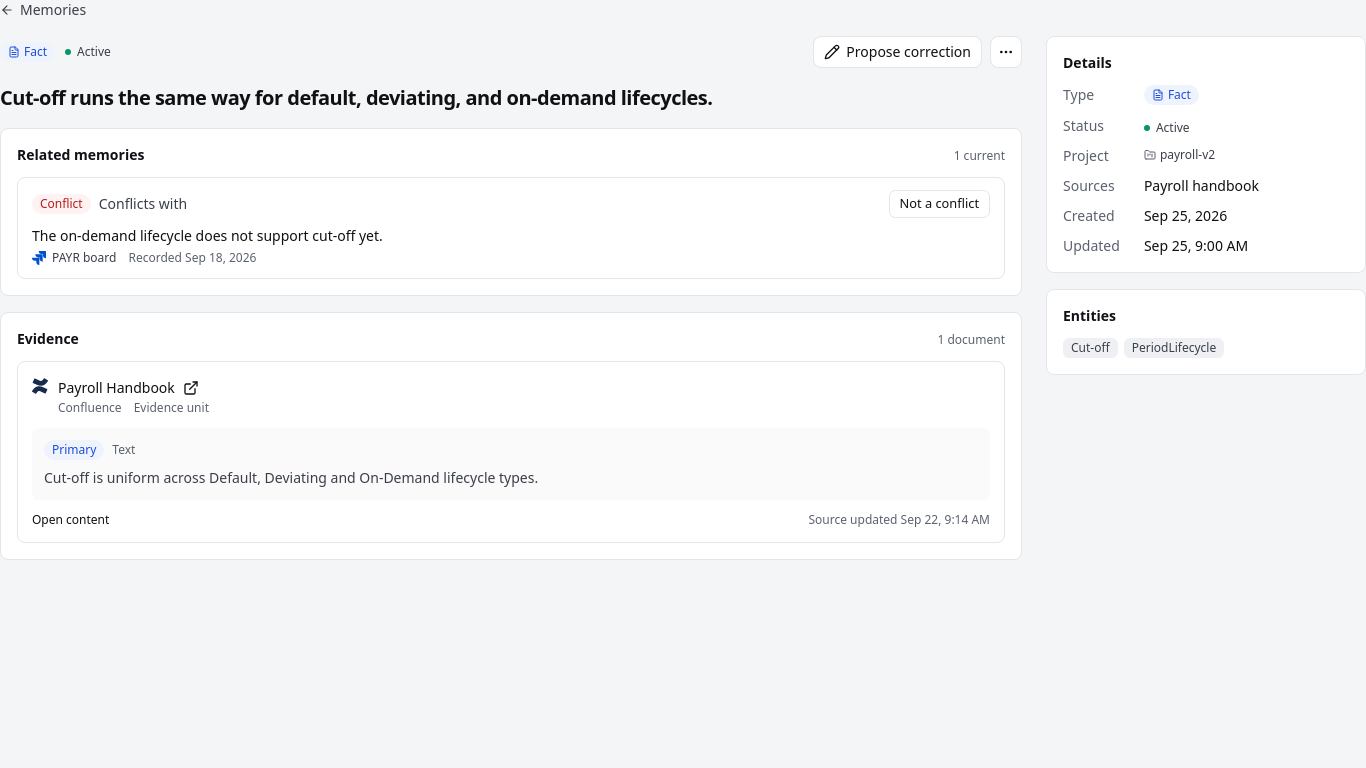
Test case: retiring while the search index is rebuilt says that the change has to wait
Click the button named "More actions".
click(1006, 52)  # box [990,36,1022,68]
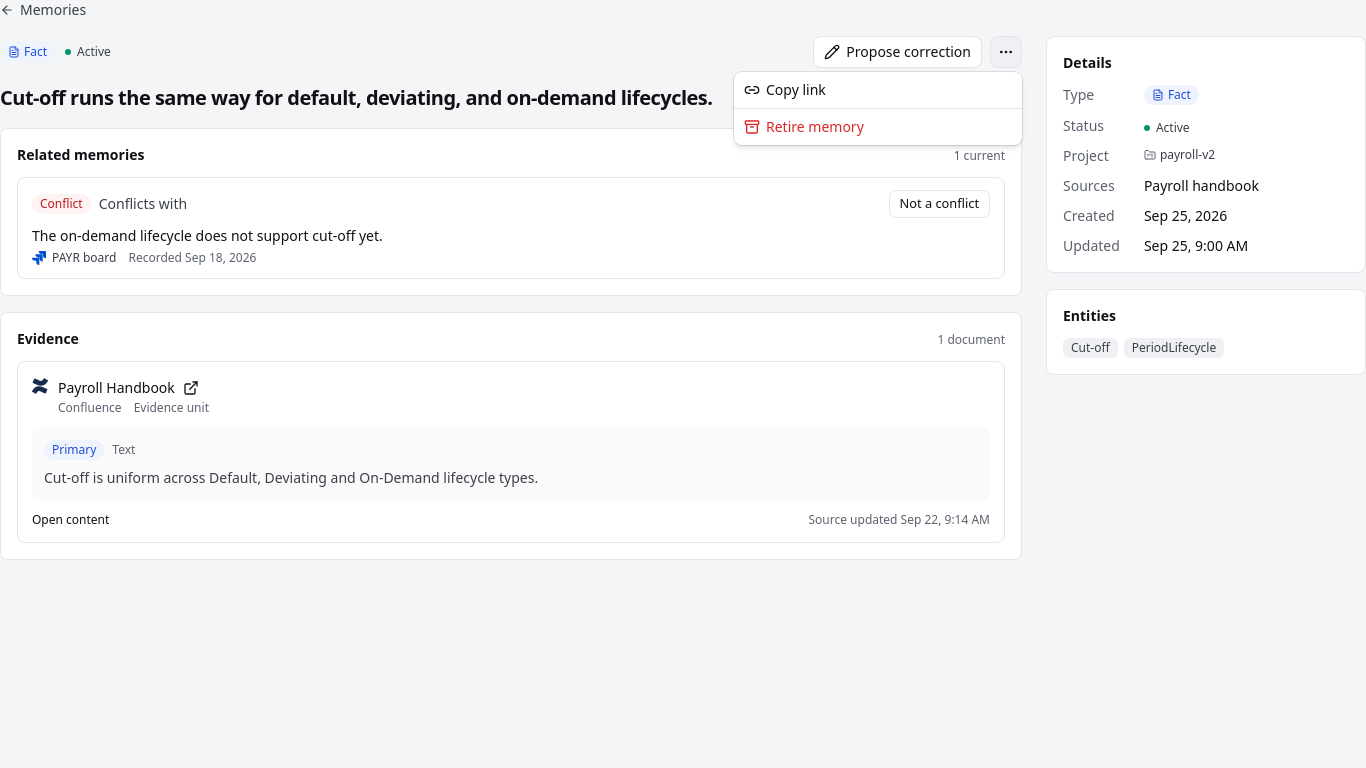
Click the menu item "Retire memory".
click(804, 126)  # box [744,117,864,136]
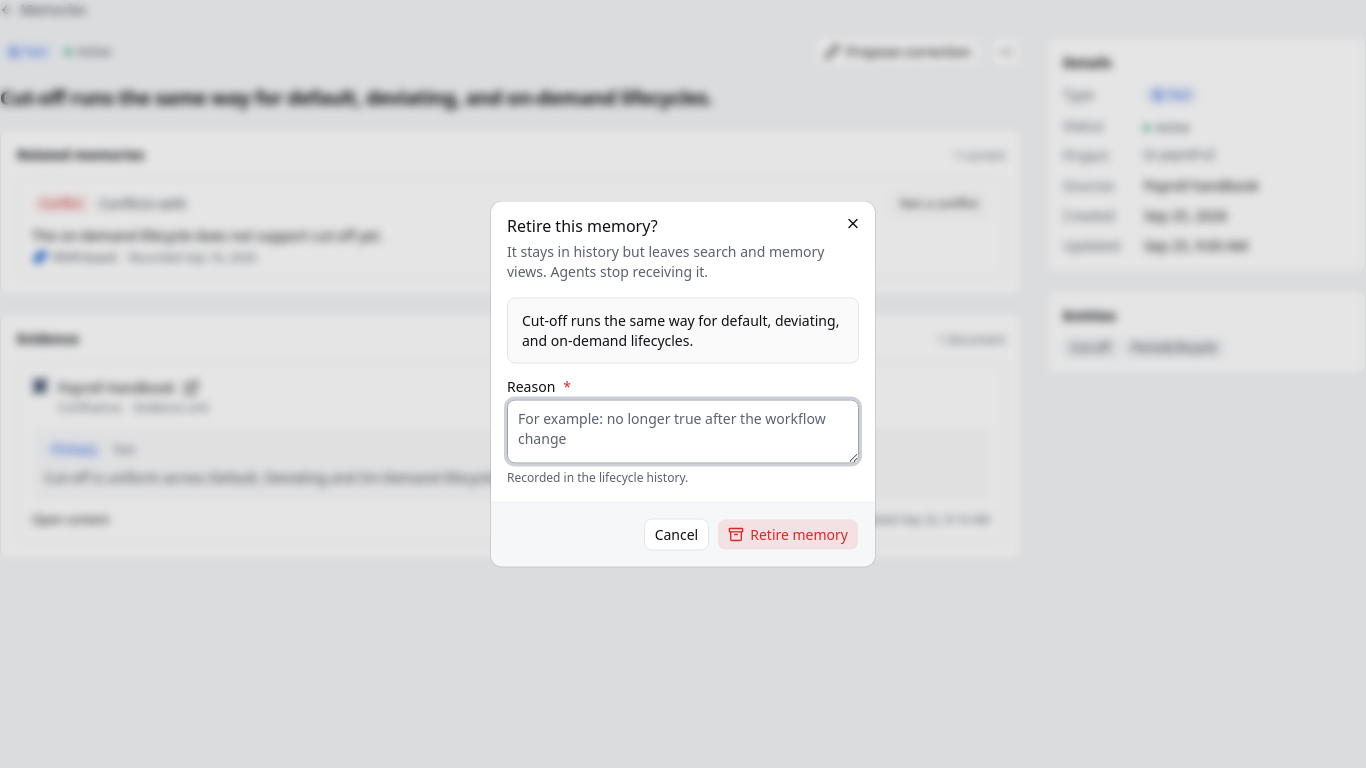
Type "No longer true" into the text box labelled "Reason *".
click(683, 432); type("No longer true")  # box [507,400,859,464]
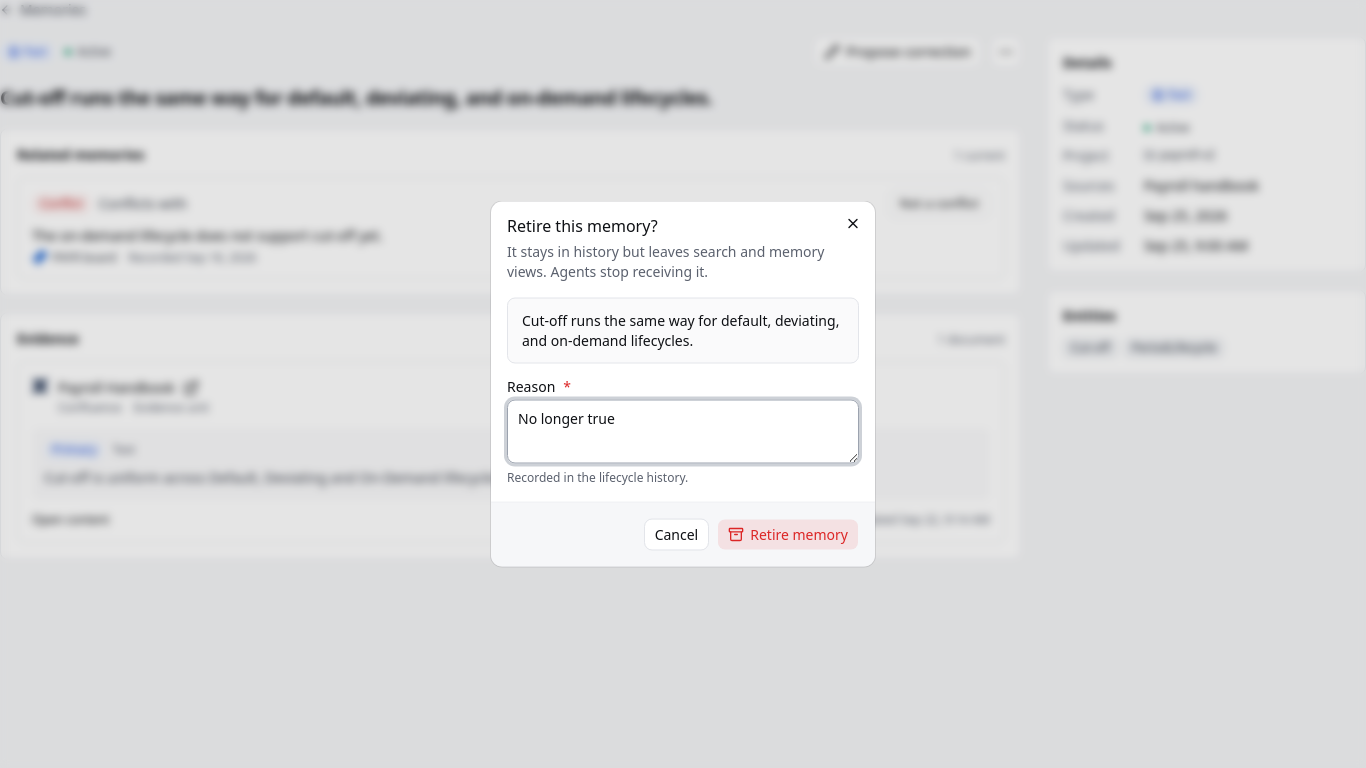
Click the button "Retire memory".
click(788, 534)  # box [717,518,859,550]
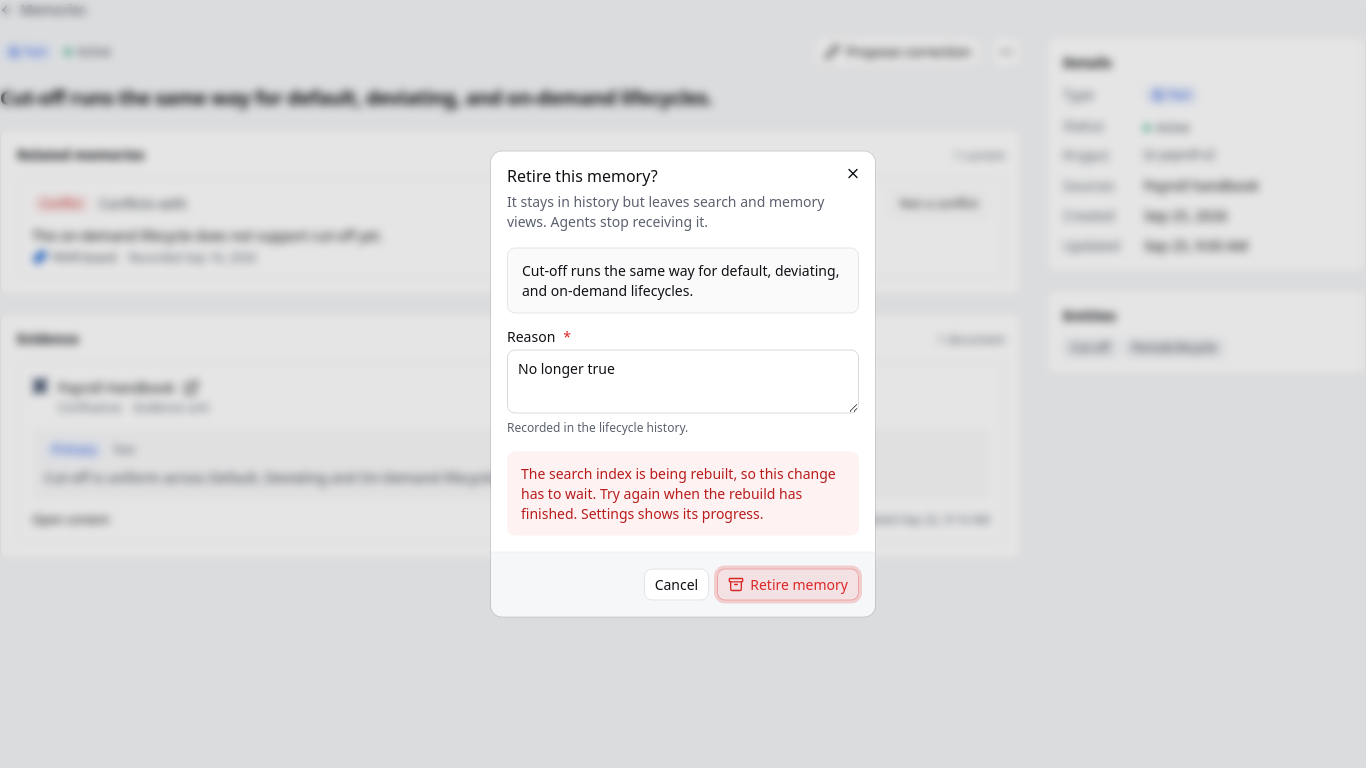
Check: the message shows "The search index is being rebuilt, so this change has to wait. Try again when the rebuild has finished. Settings shows its progress.", box [521,464,836,522]
